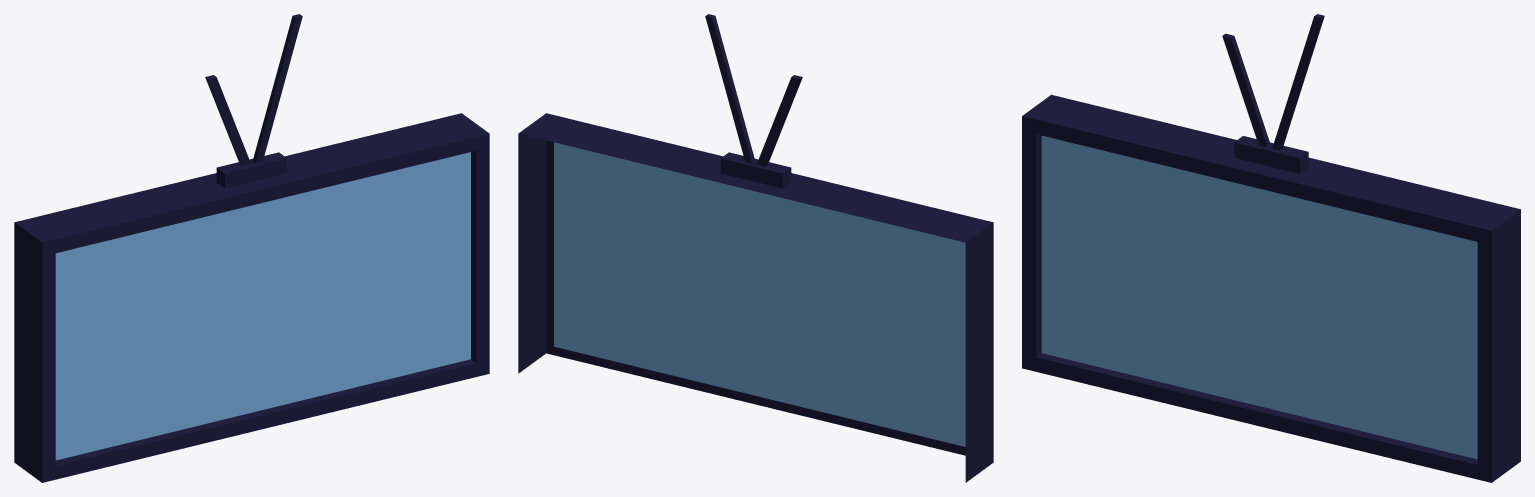
3 renders of one model, left to right at view 1: azimuth 30°, elevation 25°; view 2: azimuth 150°, elevation 25°; view 3: azimuth 330°, elevation 25°, orthographic. The views are drawn at different scales.
Parts seen in each view (by area): view 1: 4 tv; view 2: 4 tv; view 3: 4 tv.
Boxes of the visible parts, box(x1,y1,x2,y2) form: 4 tv: box(14, 14, 489, 482); 4 tv: box(518, 14, 993, 482); 4 tv: box(1022, 14, 1520, 482).
Bounding box in the file's own units: 81.26 × 67.87 × 8.78.
